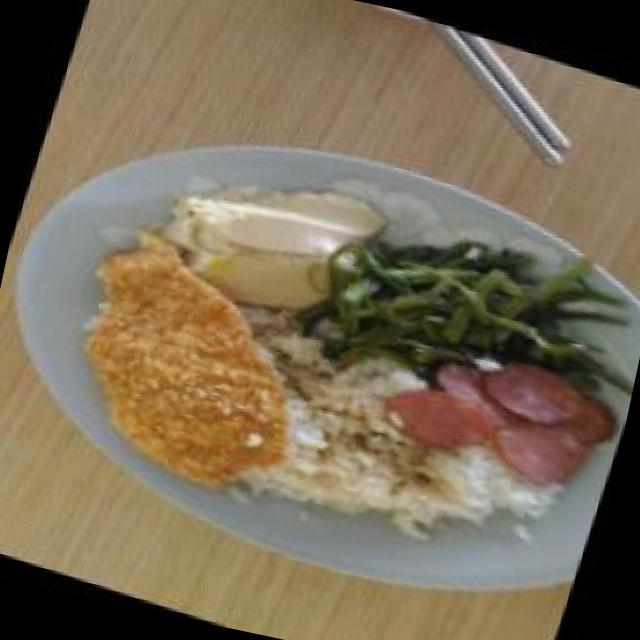chinese_sausage: (368, 323, 628, 503)
rice: (274, 404, 504, 542)
water_spinach: (358, 221, 612, 382)
